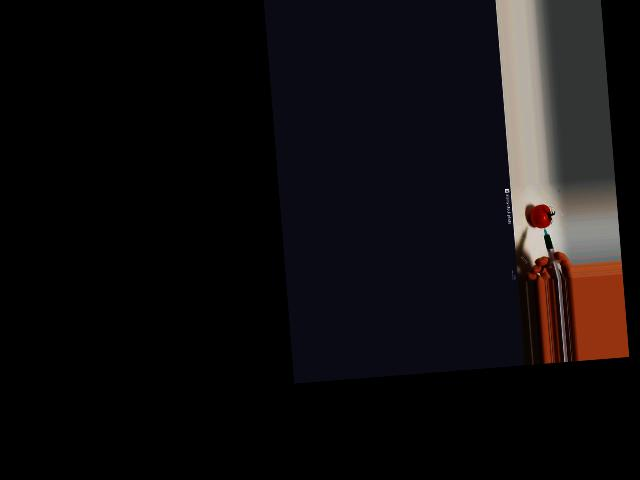tomato: (528, 204, 551, 229)
